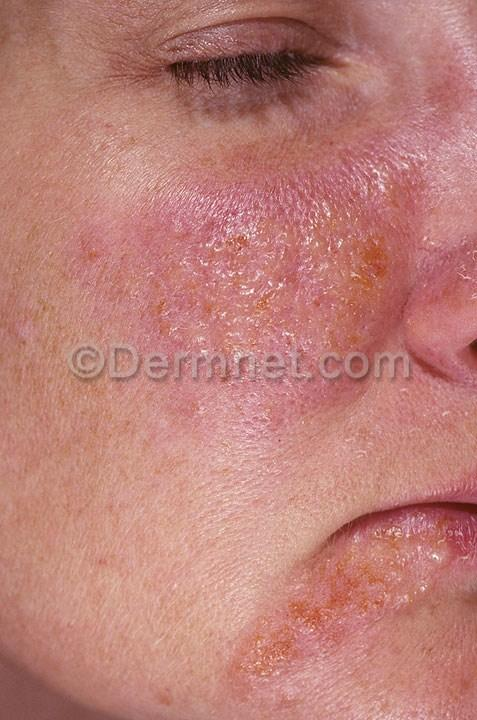Eczema: (67, 168, 293, 405), (363, 12, 477, 180), (291, 124, 402, 291), (209, 573, 342, 707), (310, 292, 399, 419), (351, 546, 440, 646), (410, 199, 477, 301)
